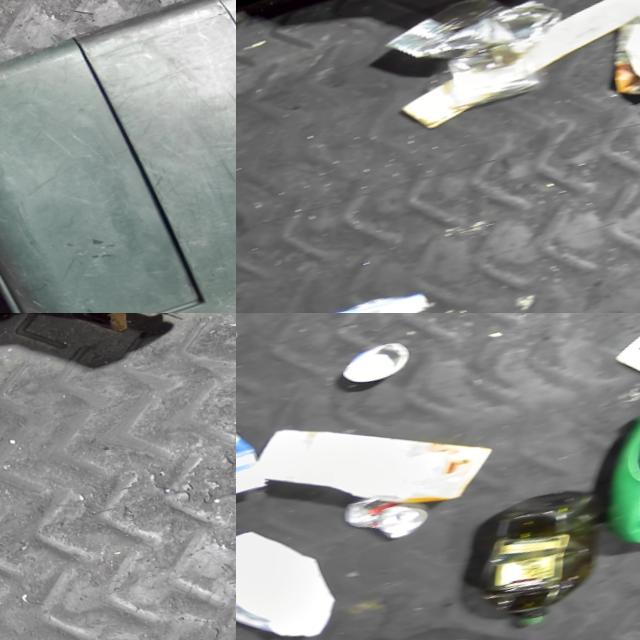can: (374, 0, 568, 86), (331, 481, 431, 552), (323, 334, 416, 392)
milk_jug: (236, 513, 341, 640), (589, 0, 640, 104)
non_white_jug: (440, 478, 629, 639), (560, 364, 640, 556)
plastic_bottle: (366, 602, 581, 640)
